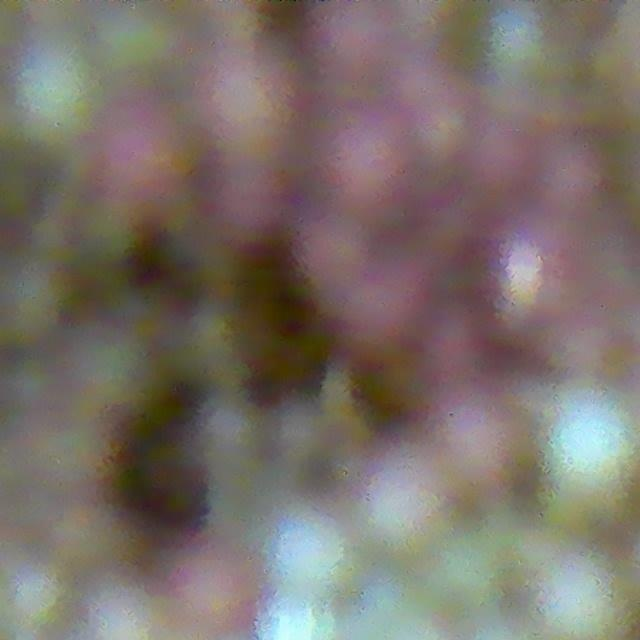SeaGrape: (431, 380, 543, 517), (154, 545, 287, 640), (191, 56, 296, 172), (326, 117, 424, 236), (8, 37, 106, 148), (91, 114, 191, 215), (263, 509, 359, 601), (350, 266, 441, 361), (535, 91, 600, 210), (537, 562, 628, 640), (459, 115, 536, 205)
